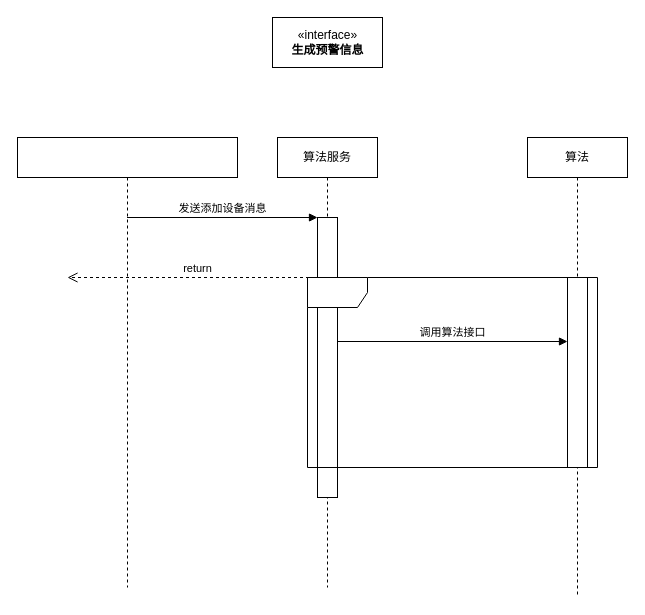
The diagram is 645 pixels wide and 615 high, and some of its shapes have lost their labels. Each missing label, with the box of its shape:
loop: (306, 276, 598, 468)
后端: (16, 136, 238, 588)
